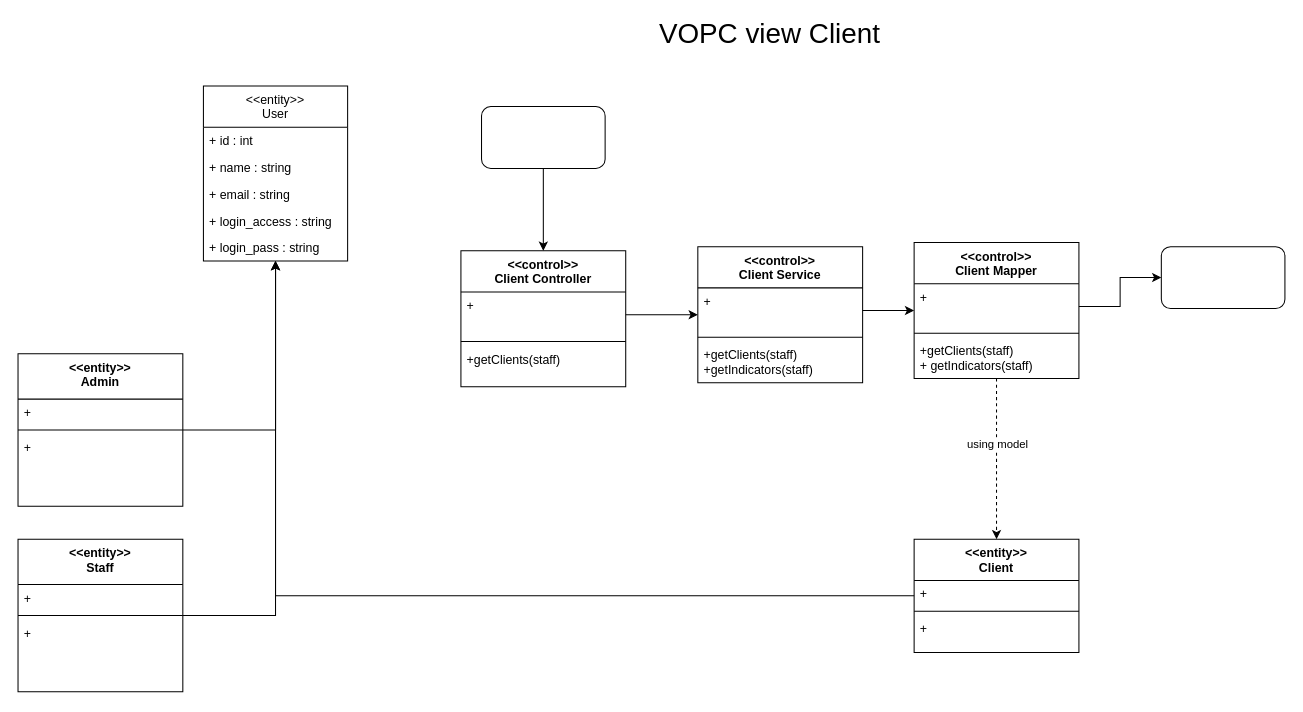
Some shapes in this 1303 by 712 pixel diagram are drawn without their labels. The centre of each missing label's shape, as x and y in pixels:
<<boundary>> HTML window: [542,137]
<<boundary>> Portal Database: [1222,277]
